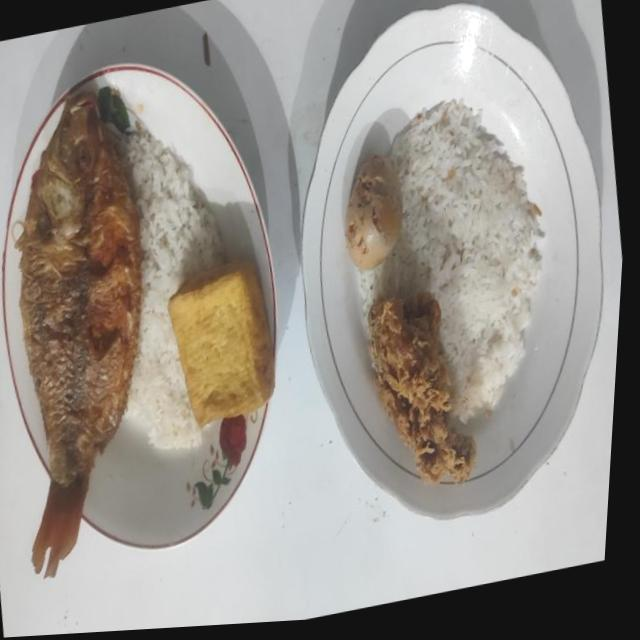ikan_mujair: (16, 92, 142, 576)
nasi_putih: (361, 100, 544, 422), (120, 132, 222, 450)
tahu_goreng: (168, 261, 275, 426)
